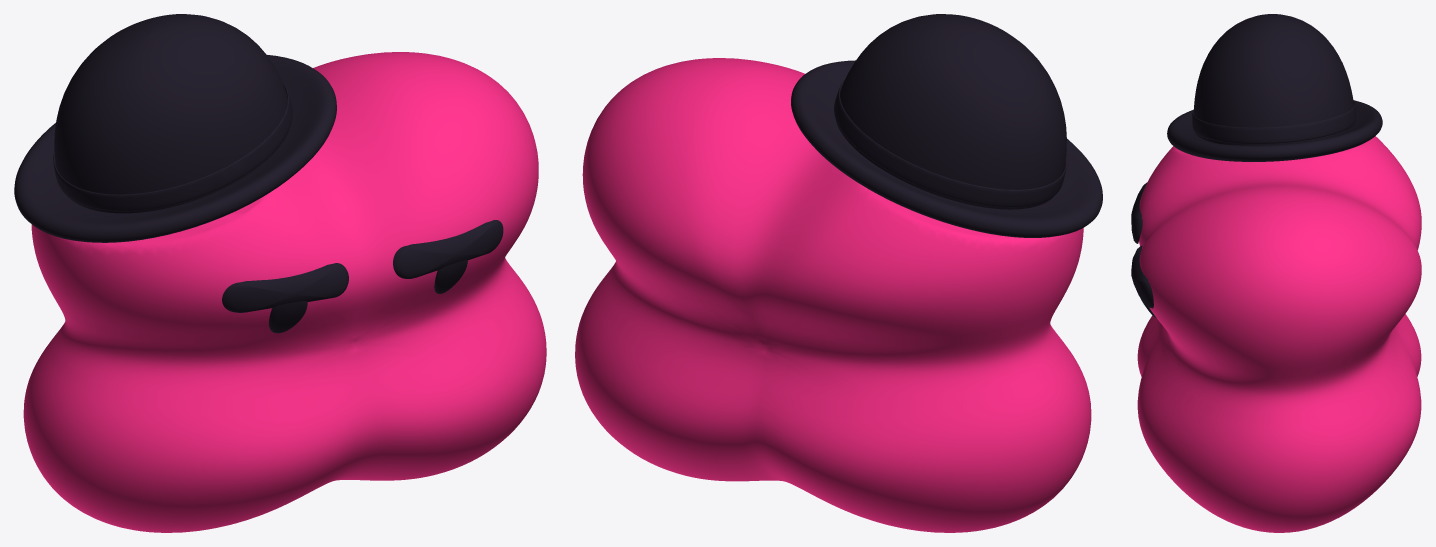
File: gizmo.glb
3 renders of one model, left to right at view 1: azimuth 30°, elevation 25°; view 2: azimuth 150°, elevation 25°; view 3: azimuth 270°, elevation 25°, orthographic. The views are drawn at different scales.
Visible parts, largest first — view 1: Body, HatCrown, HatBrim, HatBand, EyeLeftLid, EyeRightLid, EyeLeftPupil, EyeRightPupil; view 2: Body, HatCrown, HatBrim, HatBand; view 3: Body, HatCrown, HatBrim, HatBand, EyeRightLid, EyeLeftLid.
Boxes of the visible parts, bbox=[...] form: Body: bbox=[23, 52, 546, 532]; HatCrown: bbox=[54, 14, 288, 213]; HatBrim: bbox=[14, 55, 336, 242]; HatBand: bbox=[53, 81, 292, 211]; EyeLeftLid: bbox=[222, 263, 348, 312]; EyeRightLid: bbox=[393, 220, 503, 278]; EyeLeftPupil: bbox=[269, 301, 307, 333]; EyeRightPupil: bbox=[434, 260, 467, 293]; Body: bbox=[575, 58, 1091, 532]; HatCrown: bbox=[836, 14, 1066, 209]; HatBrim: bbox=[791, 60, 1102, 237]; HatBand: bbox=[834, 80, 1066, 207]; Body: bbox=[1137, 136, 1421, 532]; HatCrown: bbox=[1193, 14, 1354, 145]; HatBrim: bbox=[1167, 100, 1382, 161]; HatBand: bbox=[1192, 100, 1356, 143]; EyeRightLid: bbox=[1131, 245, 1153, 308]; EyeLeftLid: bbox=[1131, 182, 1147, 243].
Bounding box in the file's own units: 4.53 × 4.29 × 2.8.
